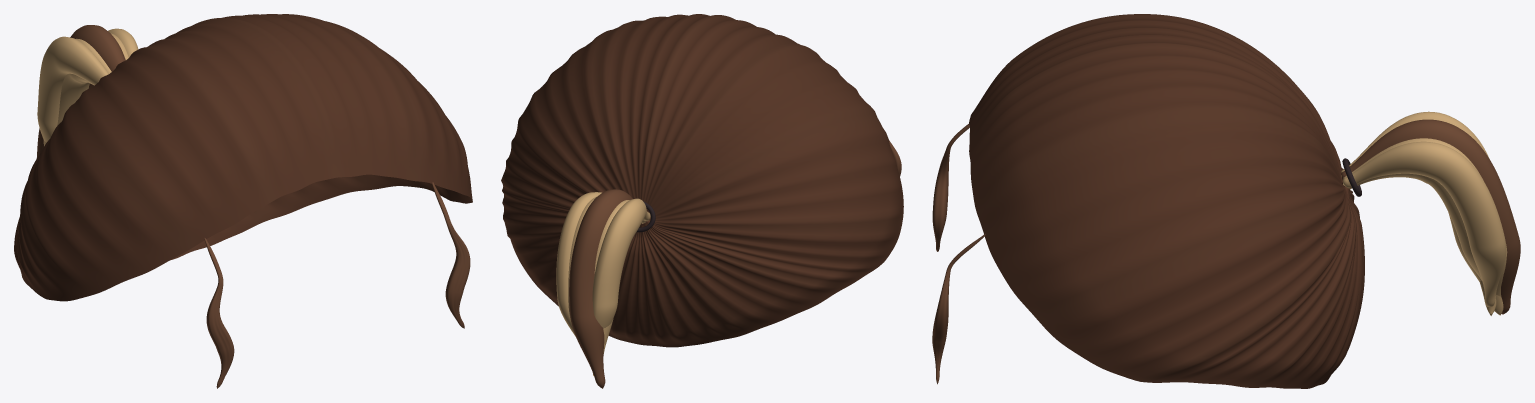
Rendered from Highlights-16ae3440c514251-hair.glb.
3 renders of one model, left to right at view 1: azimuth 30°, elevation 25°; view 2: azimuth 150°, elevation 25°; view 3: azimuth 270°, elevation 25°, orthographic. The views are drawn at different scales.
Visible parts, largest first — view 1: Hair / swept roots220, Hair / rounded tail220 0, Hair / adjustable front216 1, Hair / adjustable front216 -1, Hair / rounded tail220 2, Hair / rounded tail220 1; view 2: Hair / swept roots220, Hair / rounded tail220 2, Hair / rounded tail220 0, Hair / rounded tail220 4, Hair / rounded tail220 1; view 3: Hair / swept roots220, Hair / rounded tail220 4, Hair / rounded tail220 2, Hair / rounded tail220 3, Hair / adjustable front216 1, Hair / adjustable front216 -1, Hair / rounded tail220 0.
Part boxes in pixels (x1,y1,x2,y2): Hair / swept roots220: [14, 14, 472, 301]; Hair / rounded tail220 0: [37, 36, 108, 142]; Hair / adjustable front216 1: [432, 182, 470, 328]; Hair / adjustable front216 -1: [204, 238, 234, 388]; Hair / rounded tail220 2: [36, 25, 125, 158]; Hair / rounded tail220 1: [43, 38, 111, 146]; Hair / swept roots220: [501, 14, 903, 347]; Hair / rounded tail220 2: [569, 189, 632, 388]; Hair / rounded tail220 0: [592, 198, 650, 375]; Hair / rounded tail220 4: [556, 192, 601, 336]; Hair / rounded tail220 1: [594, 200, 646, 353]; Hair / swept roots220: [969, 14, 1364, 388]; Hair / rounded tail220 4: [1343, 141, 1506, 306]; Hair / rounded tail220 2: [1341, 119, 1520, 314]; Hair / rounded tail220 3: [1343, 138, 1507, 296]; Hair / adjustable front216 1: [932, 233, 985, 384]; Hair / adjustable front216 -1: [932, 124, 969, 251]; Hair / rounded tail220 0: [1341, 111, 1496, 315].
Size of the model in its own units: 0.9758 by 0.6634 by 1.1.
